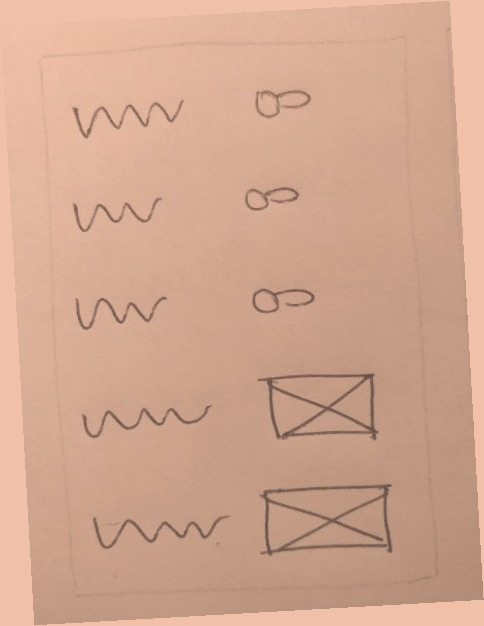image: (247, 471, 403, 569), (247, 357, 396, 455)
switch: (228, 170, 315, 222), (244, 273, 324, 323), (249, 76, 320, 124)
text: (83, 498, 241, 564), (71, 390, 231, 448), (63, 182, 174, 250), (66, 90, 192, 146), (68, 281, 175, 337)
